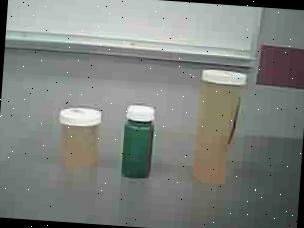Bottle A: (188, 62, 244, 191)
Bottle B: (51, 98, 106, 174)
Bottle C: (118, 100, 159, 186)
